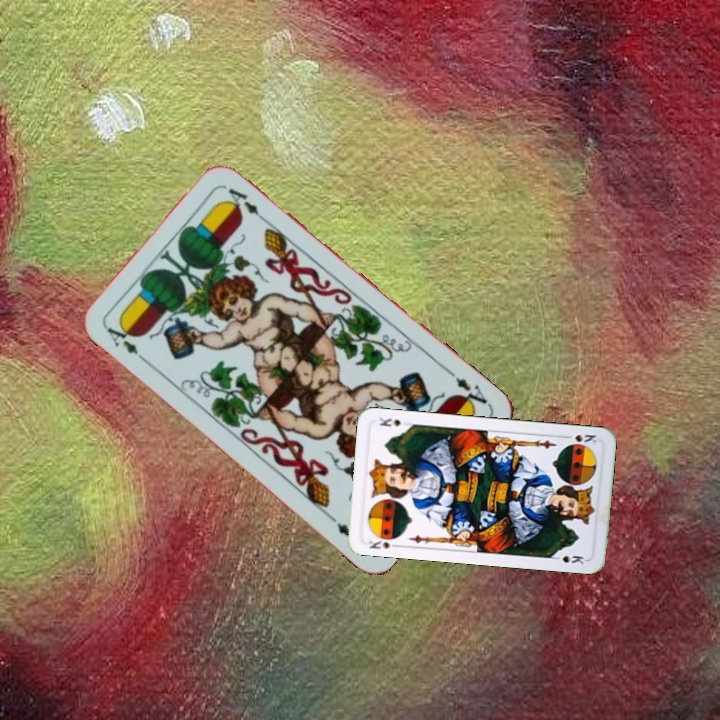EA: (445, 367, 495, 413), (103, 319, 151, 366)
SK: (560, 430, 599, 446), (365, 536, 402, 552)
